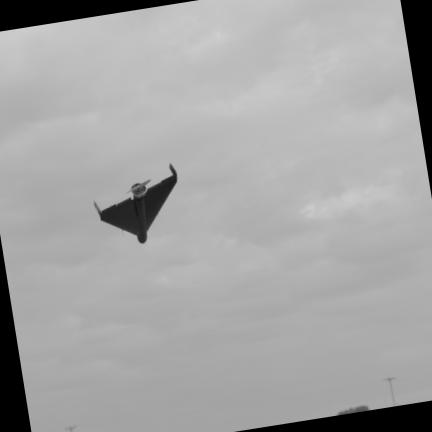Shahed: (95, 163, 176, 242)
